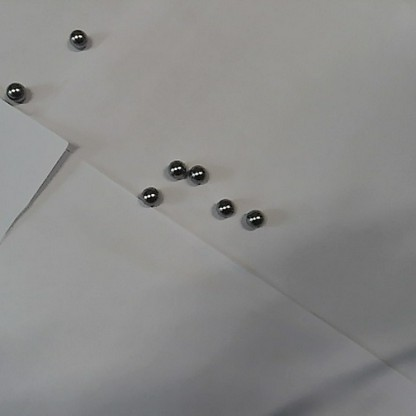ironball: (68, 29, 86, 48), (6, 83, 24, 102), (140, 187, 158, 205), (215, 197, 233, 215), (168, 159, 185, 178), (245, 210, 263, 227), (190, 165, 205, 183)
